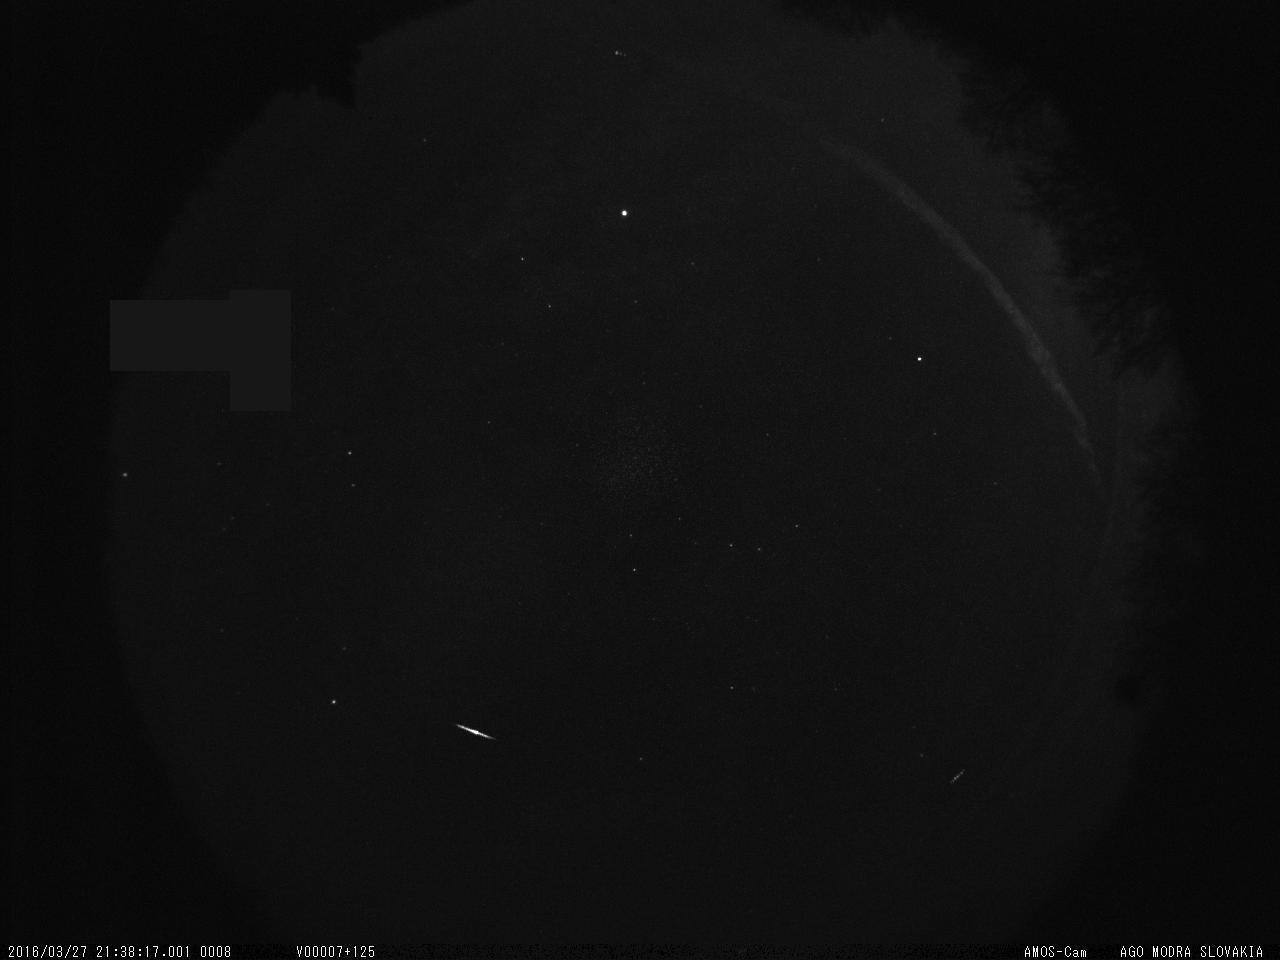meteor: (450, 712, 509, 760)
